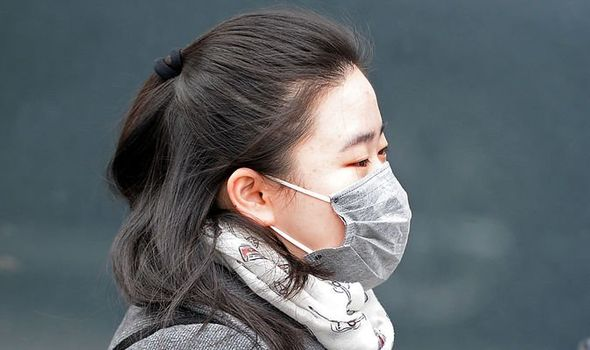mask: (286, 165, 418, 289)
